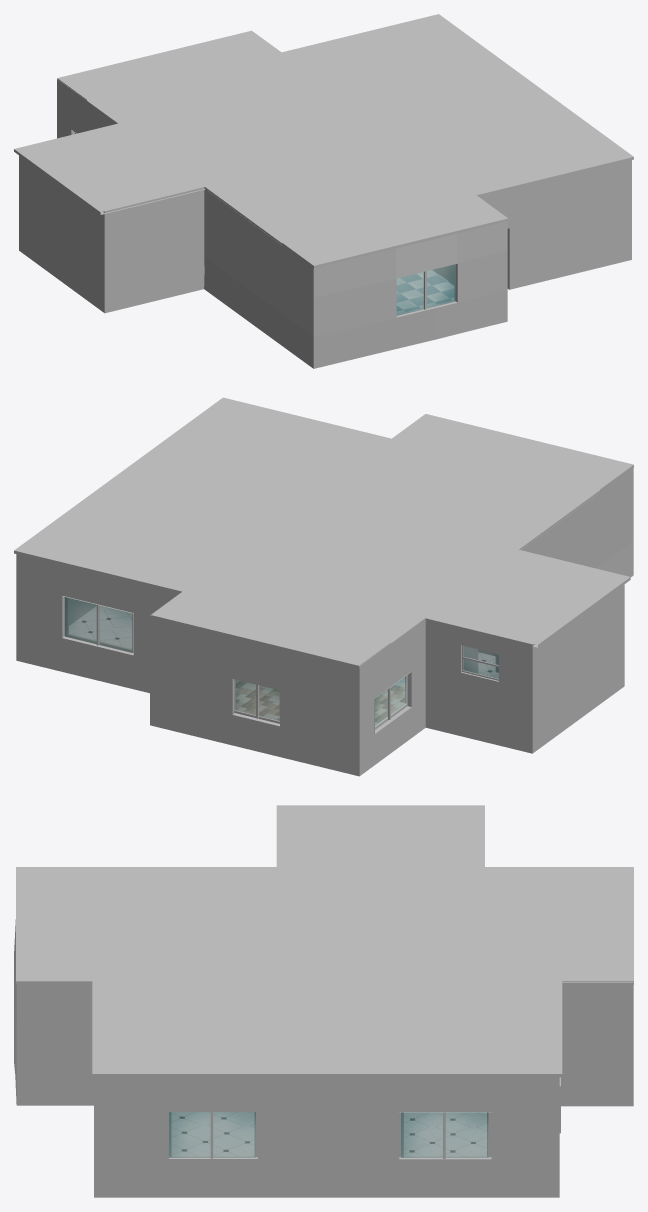
File: Kids_House_Interior_Collider.fbx
3 views of the same model, one above another, from view 1: azimuth 30°, elevation 25°; view 2: azimuth 150°, elevation 25°; view 3: azimuth 270°, elevation 25° (orthographic). The views are drawn at different scales.
Parts seen in each view (by area): view 1: Kids_House_Interior_Collider; view 2: Kids_House_Interior_Collider; view 3: Kids_House_Interior_Collider.
Part boxes in pixels (x1=…): Kids_House_Interior_Collider: x1=14, y1=14, x2=633, y2=368; Kids_House_Interior_Collider: x1=14, y1=397, x2=633, y2=776; Kids_House_Interior_Collider: x1=14, y1=805, x2=633, y2=1197.
Size of the model in its own units: 3416 by 738 by 3333.
